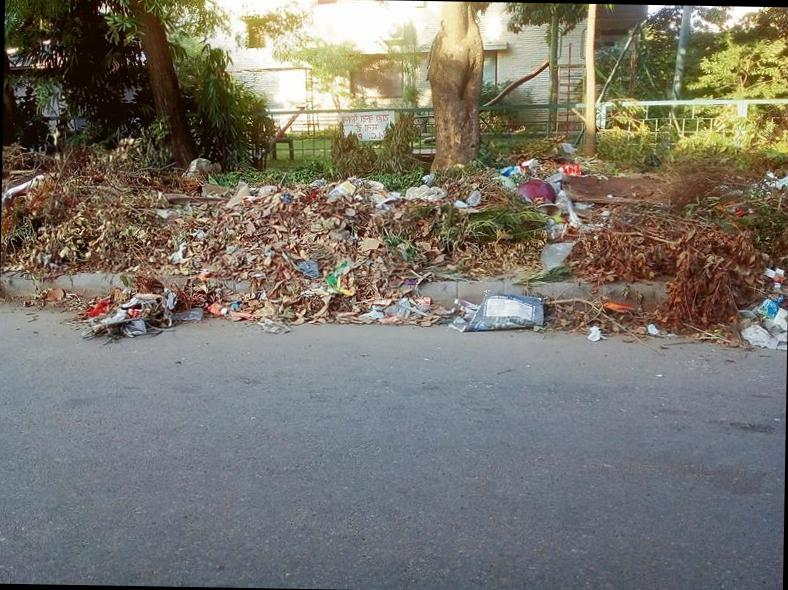road: (0, 302, 787, 590)
trash: (1, 168, 548, 322)
